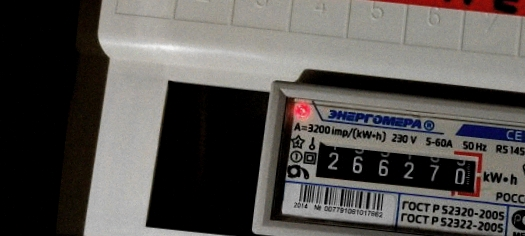0: (451, 164, 467, 186)
2: (325, 149, 340, 171), (401, 159, 416, 180)
6: (349, 153, 364, 175), (375, 156, 390, 177)
7: (427, 162, 439, 182)
screen: (302, 130, 490, 204)
